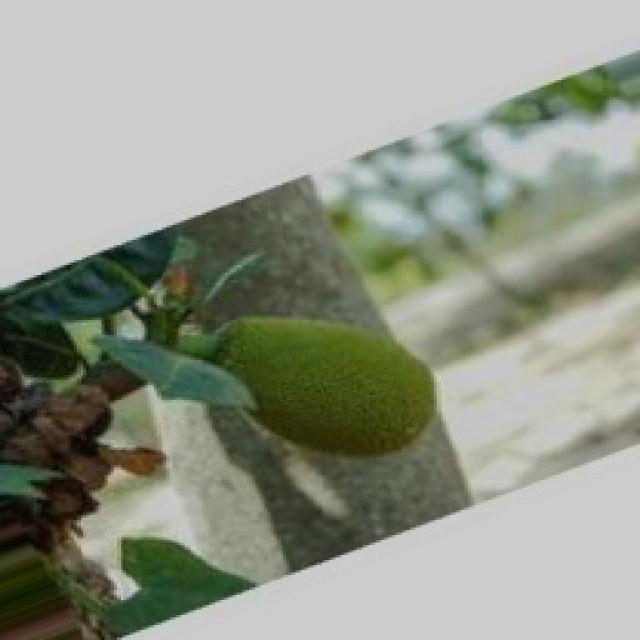Fruit: (188, 273, 462, 495)
